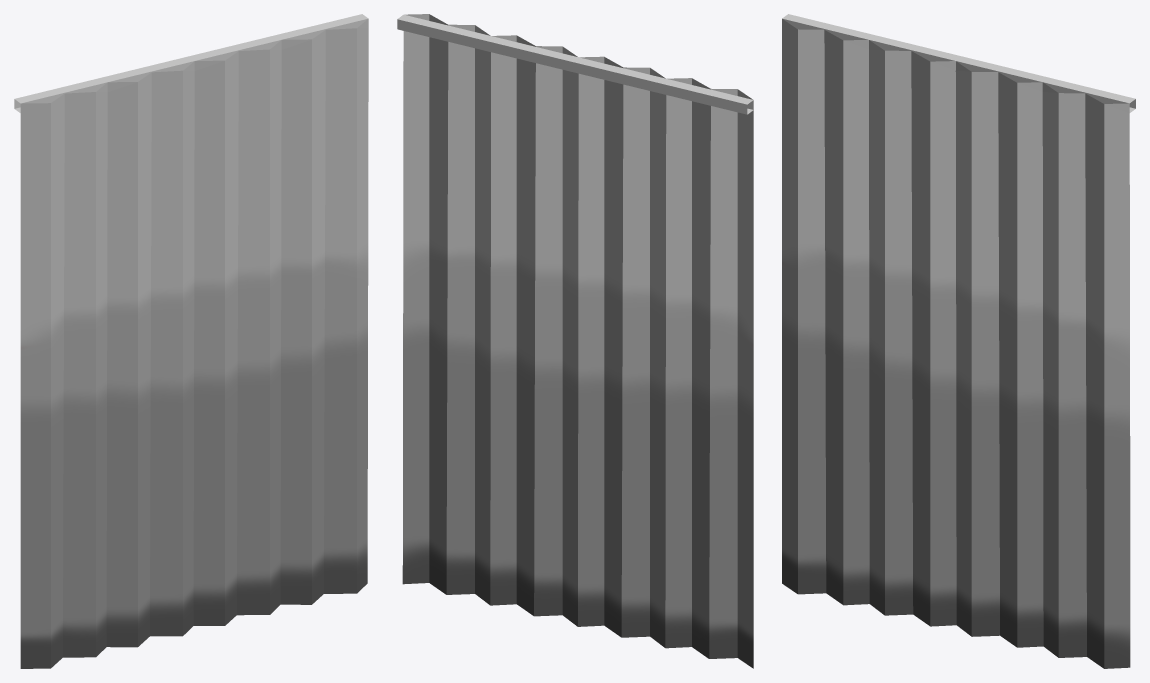
File: Courtain.fbx
3 views of the same model, side by side, from view 1: azimuth 30°, elevation 25°; view 2: azimuth 150°, elevation 25°; view 3: azimuth 330°, elevation 25° (orthographic).
Parts seen in each view (by area): view 1: Plane; view 2: Plane; view 3: Plane.
Part boxes in pixels (x1,y1,x2,y2): Plane: (14,14,368,668); Plane: (397,14,753,668); Plane: (782,14,1135,668).
Bounding box in the file's own units: 1083 × 1681 × 72.62.
